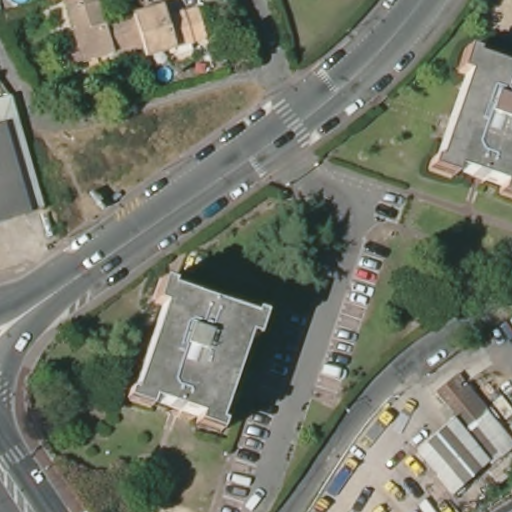pool: (156, 67, 175, 85)
